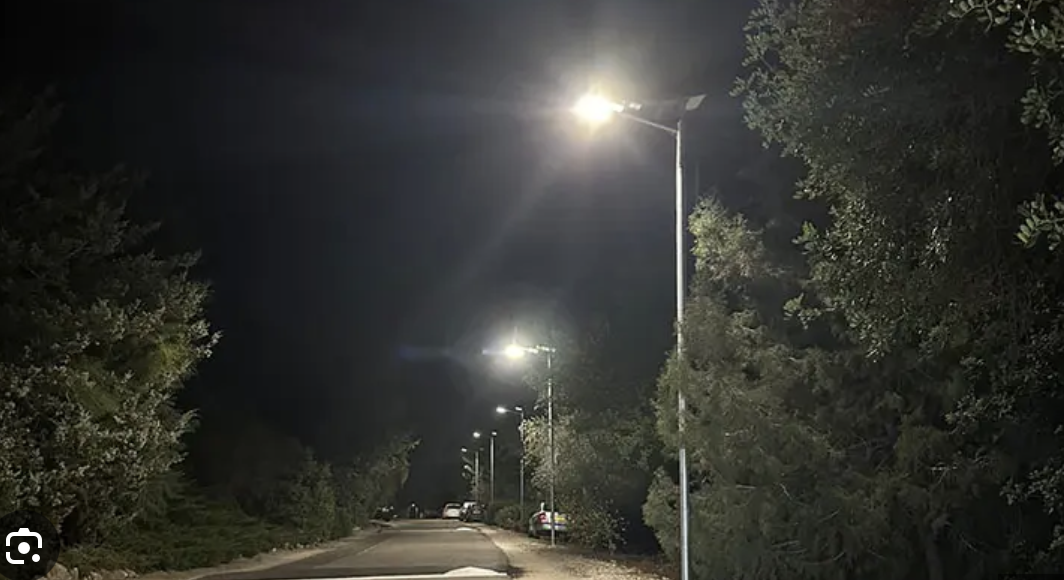LED: (552, 81, 638, 148), (487, 333, 535, 373), (490, 401, 518, 421)
